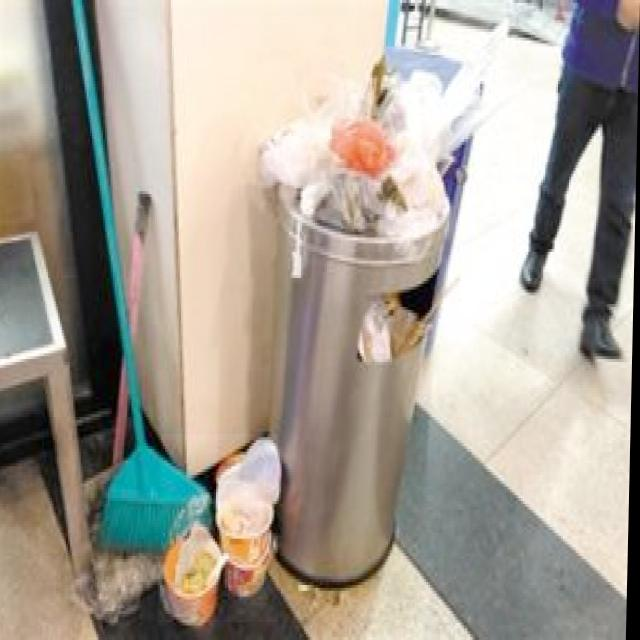garbage: (160, 434, 284, 622)
overflow: (262, 55, 456, 585)
